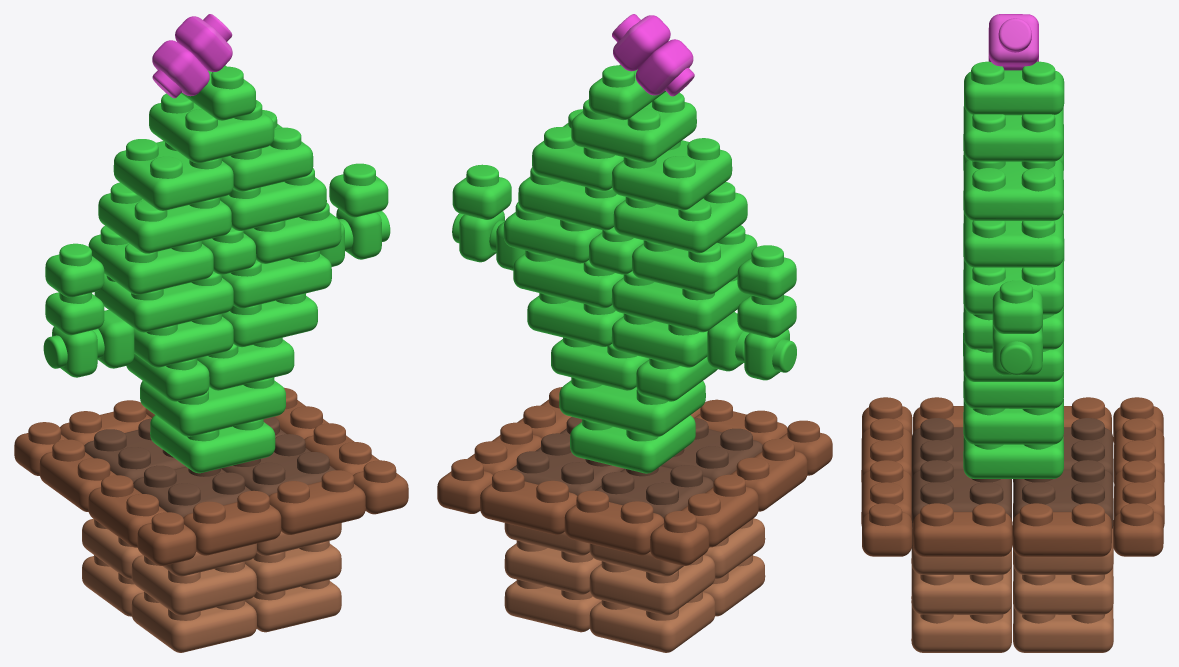
Rendered from Cactus_LV8.fbx.
The picture shows the model from 3 angles, left to right: view 1: azimuth 30°, elevation 25°; view 2: azimuth 150°, elevation 25°; view 3: azimuth 270°, elevation 25°; orthographic projection. The views are drawn at different scales.
Visible parts, largest first — view 1: Cactus_LV8; view 2: Cactus_LV8; view 3: Cactus_LV8.
Boxes of the visible parts, box(x1,y1,x2,y2) form: Cactus_LV8: box(14, 14, 408, 652); Cactus_LV8: box(437, 14, 832, 652); Cactus_LV8: box(861, 14, 1164, 652).
Size of the model in its own units: 770 by 1296 by 596.
Materials: 1 (1 with a texture image).
